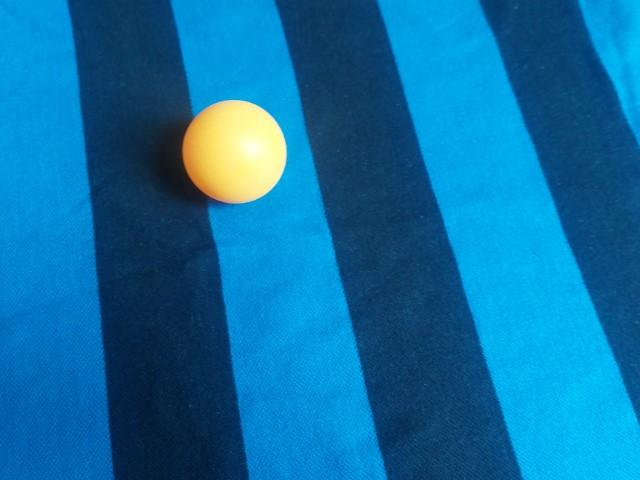oball: (344, 270, 466, 391)
